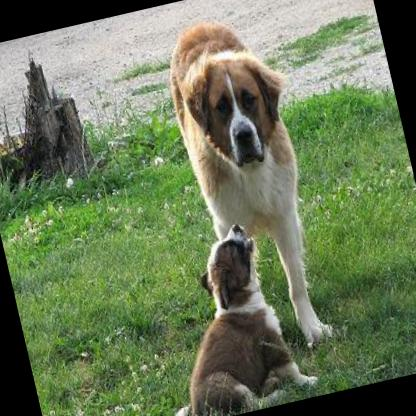Saint_Bernard: (152, 2, 345, 365), (134, 210, 323, 416)
